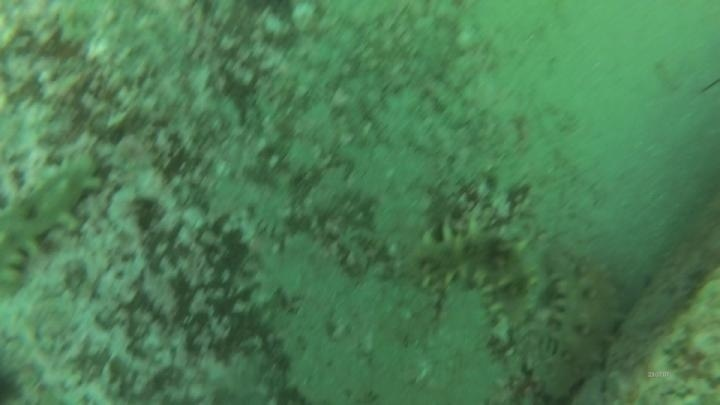holothurian: (400, 220, 552, 336), (0, 147, 106, 291), (536, 245, 627, 403)
